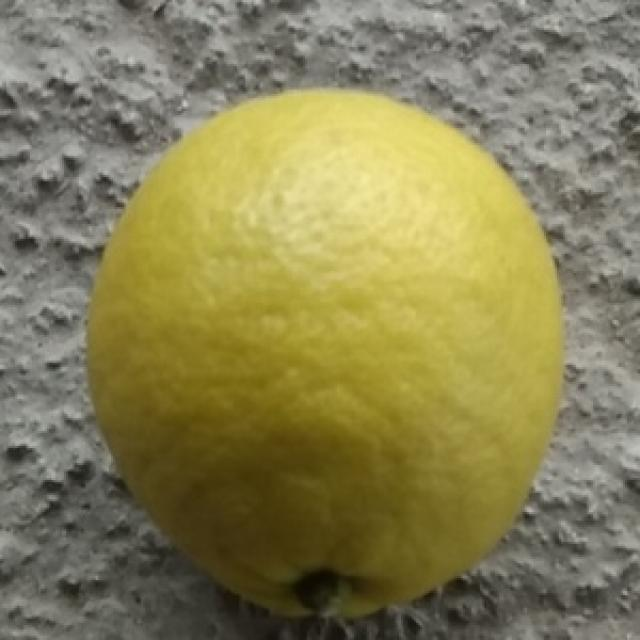Ripe: (77, 82, 572, 624)
